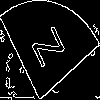Z: (25, 25, 66, 75)
